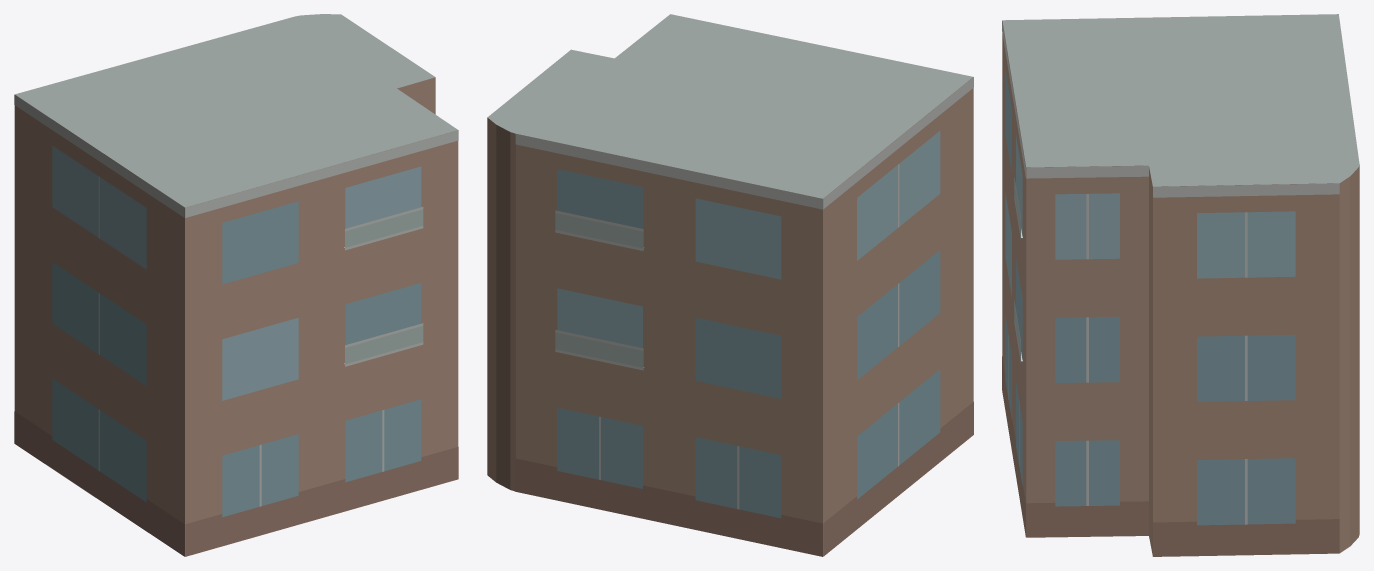
The model's file is survey-upis-33045250.glb.
3 views of the same model, side by side, from view 1: azimuth 30°, elevation 25°; view 2: azimuth 150°, elevation 25°; view 3: azimuth 270°, elevation 25° (orthographic). The views are drawn at different scales.
Visible parts, largest first — view 1: survey-upis-33045250.tmp; view 2: survey-upis-33045250.tmp; view 3: survey-upis-33045250.tmp.
Part boxes in pixels (bbox=[...]): survey-upis-33045250.tmp: bbox=[14, 14, 458, 556]; survey-upis-33045250.tmp: bbox=[487, 14, 973, 556]; survey-upis-33045250.tmp: bbox=[1002, 14, 1359, 556].
Size of the model in its own units: 8.11 by 8.1 by 7.09.
